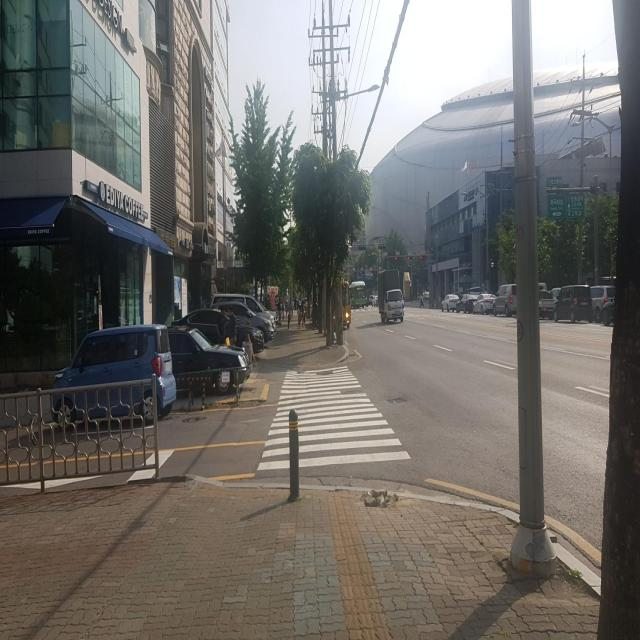횡단보도: (256, 365, 412, 472)
